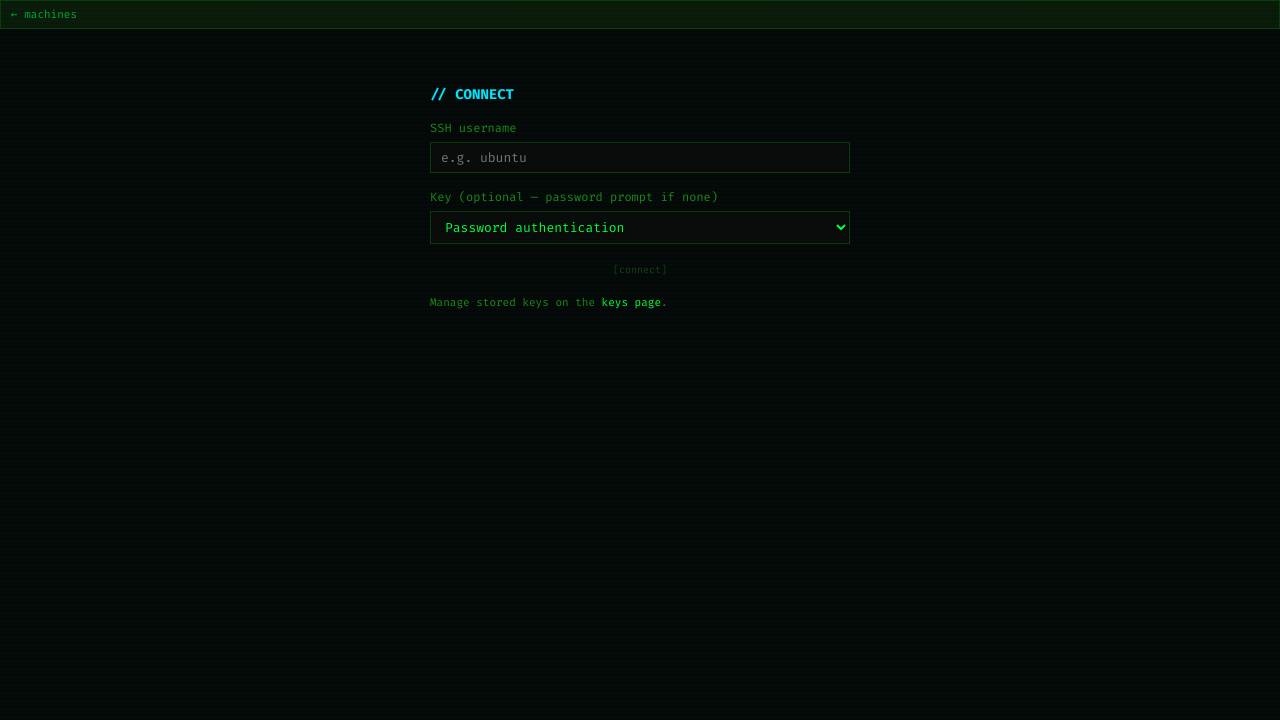
Test: ConnectView key selection › rejects an invalid inline key with an error and does not start the session
Type "ubuntu" into the field labelled "SSH username" at (640, 158), box 430,142 -> 850,173
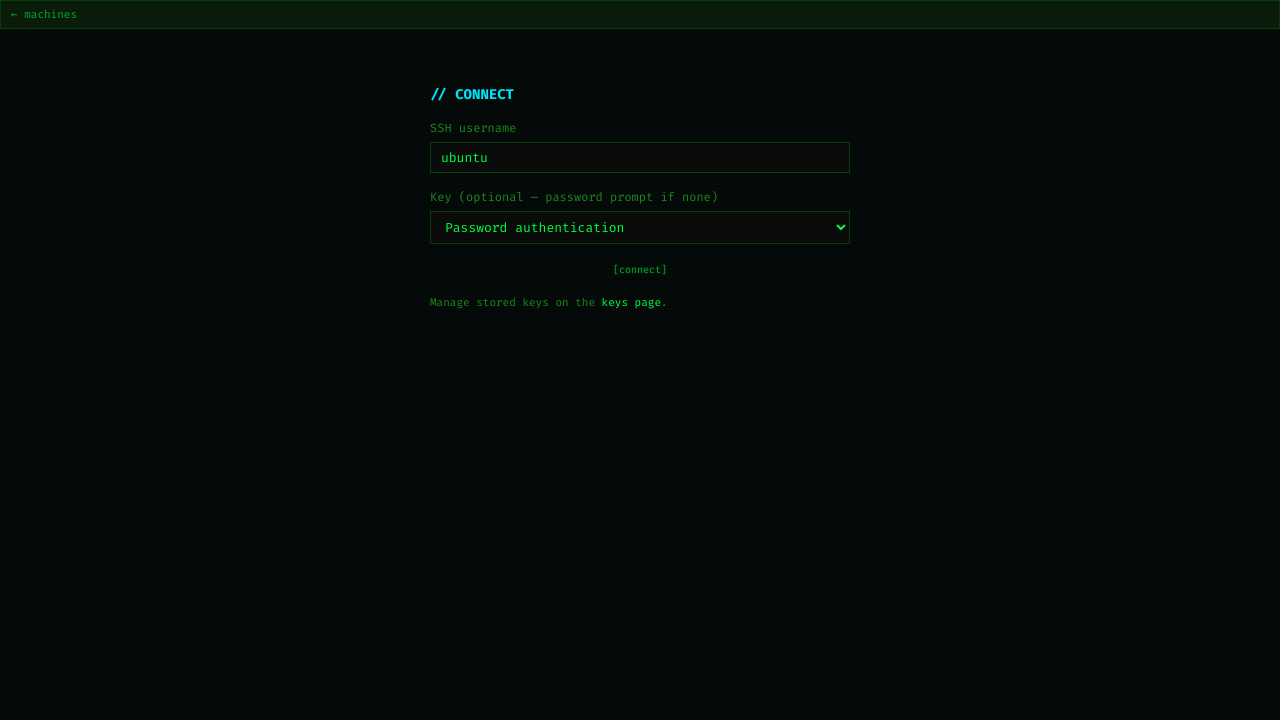
Select "Use a key just for this session…" in the dropdown labelled "Key (optional — password prompt if none)" at (640, 228), box 430,211 -> 850,244
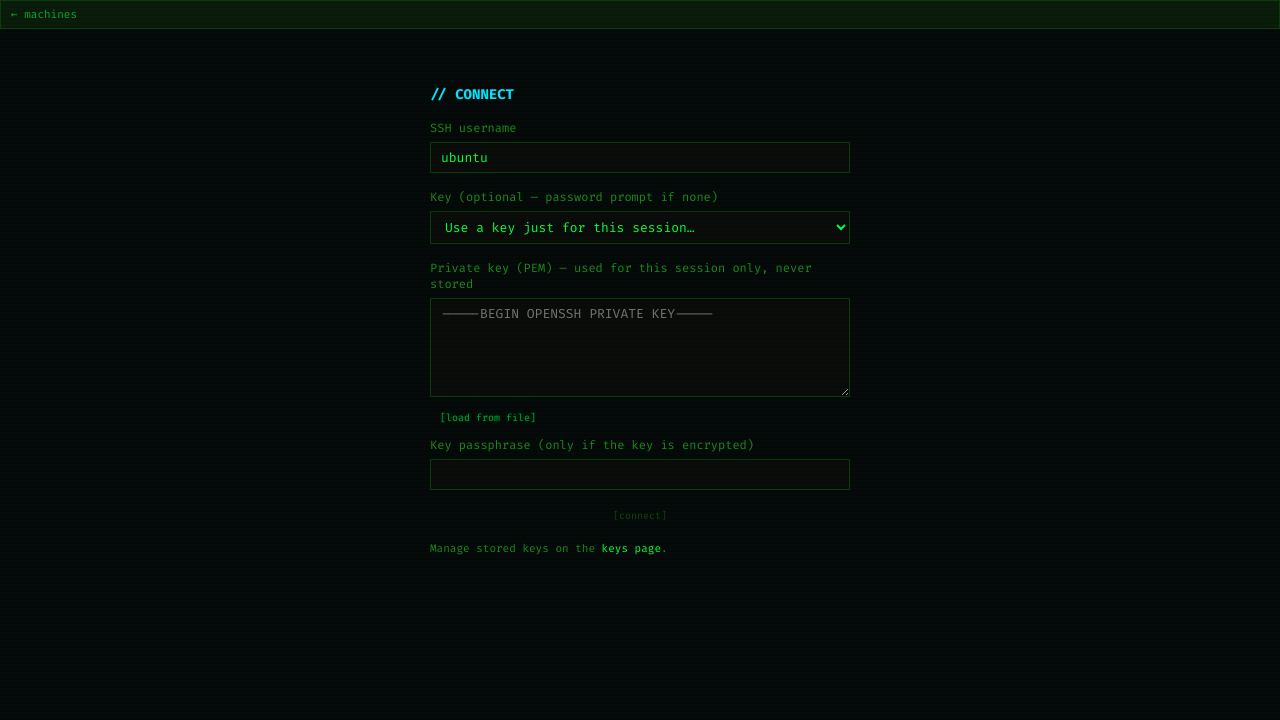
Type "garbage" into the text box labelled "Private key (PEM) — used for this session only, never stored" at (640, 348), box 430,298 -> 850,397
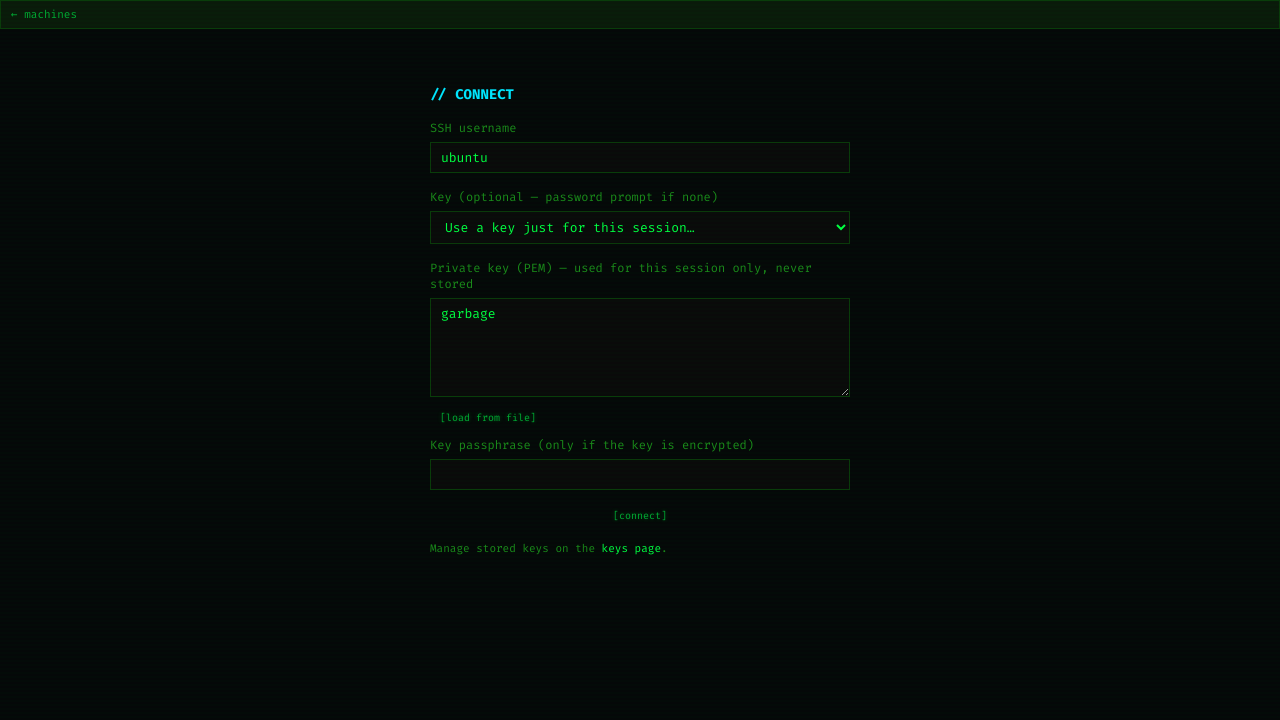
Click the button "[connect]" at (640, 516), box 430,506 -> 850,525
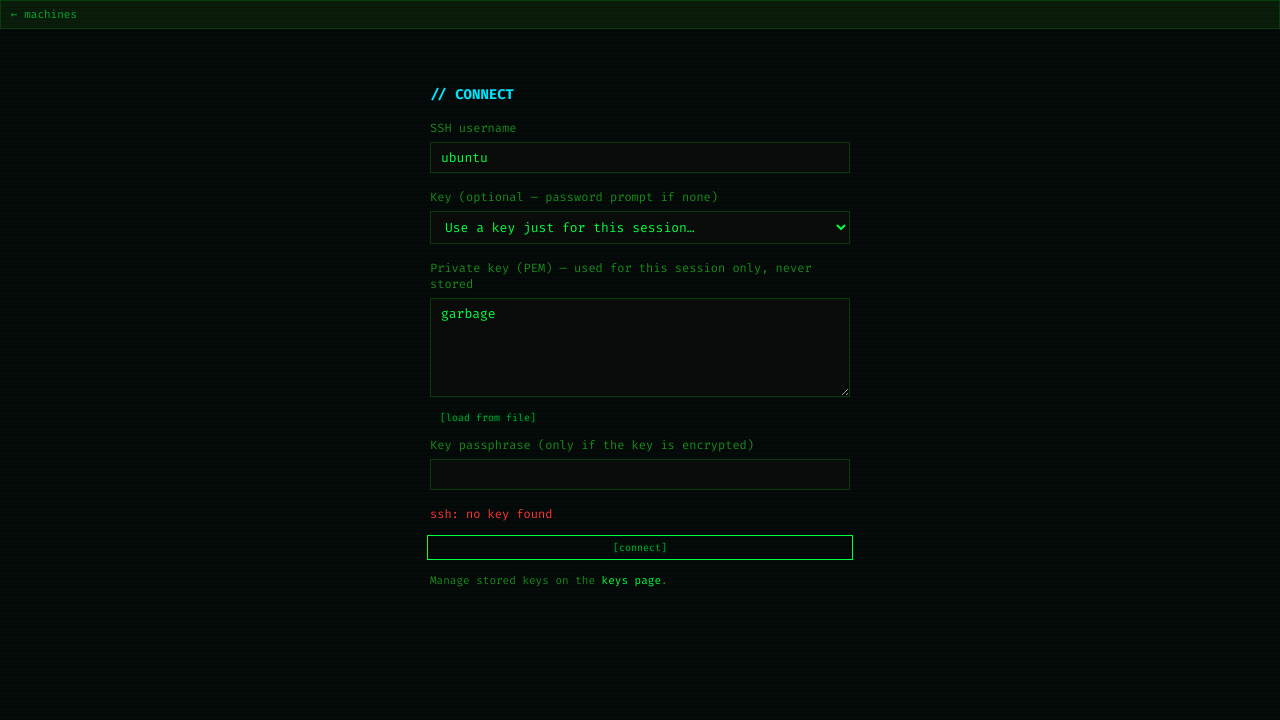
Now the text "ssh: no key found" is shown, box 430,506 -> 552,522
